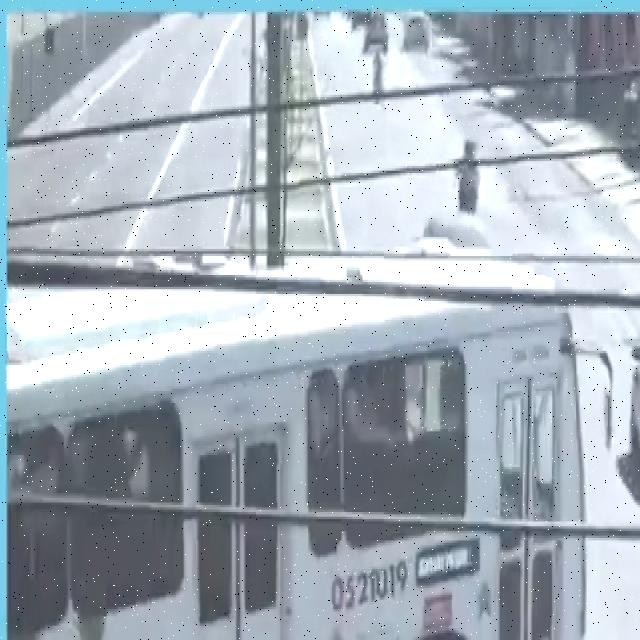car: (624, 303, 640, 517)
truck: (0, 246, 586, 640)
